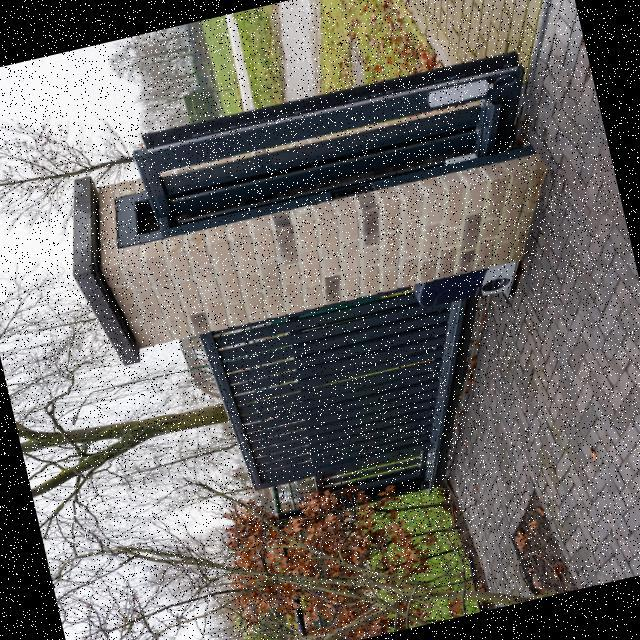fence line: (202, 281, 465, 527), (142, 68, 529, 232)
